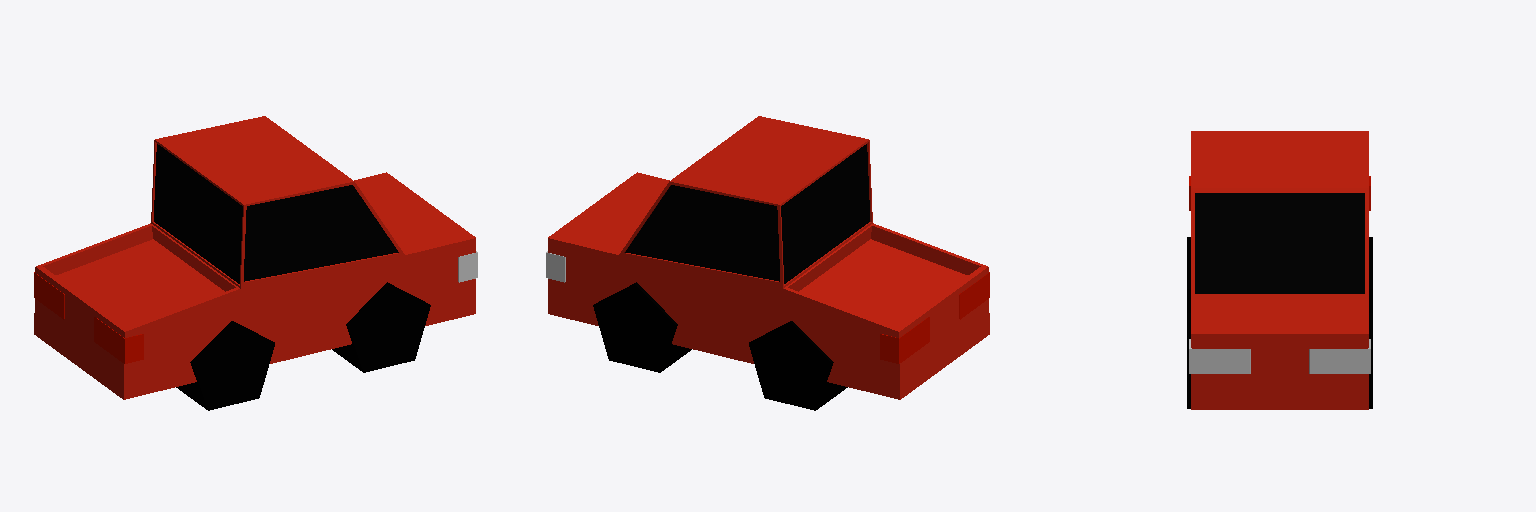
The model's file is pickuptruck.obj.
The picture shows the model from 3 angles: view 1: azimuth 30°, elevation 25°; view 2: azimuth 150°, elevation 25°; view 3: azimuth 270°, elevation 25°; orthographic projection.
Parts seen in each view (by area): view 1: Cube; view 2: Cube; view 3: Cube.
Part boxes in pixels (x1,y1,x2,y2): Cube: (34, 116, 477, 410); Cube: (546, 116, 989, 410); Cube: (1187, 131, 1372, 409).
Size of the model in its own units: 5.59 by 2.94 by 2.55.